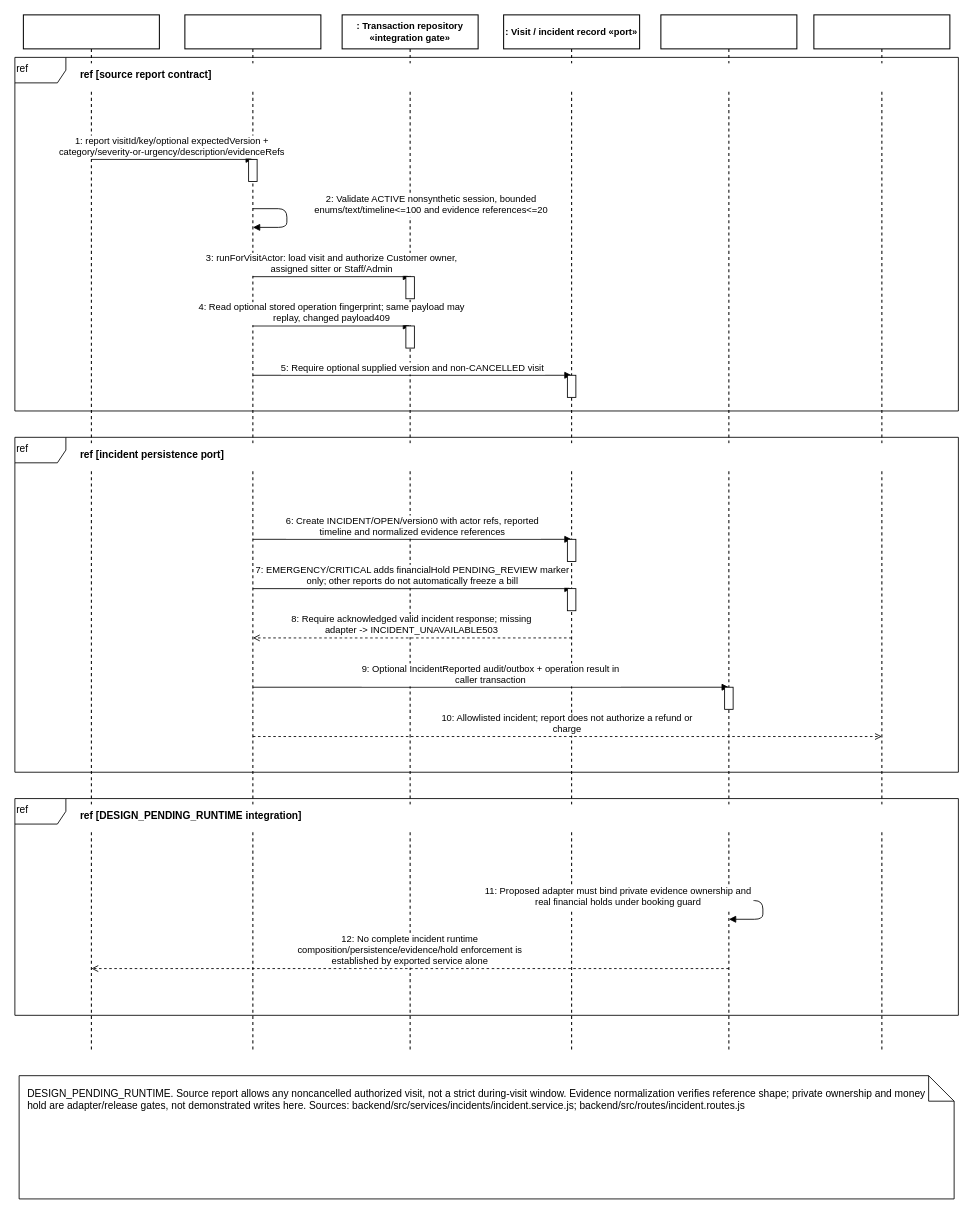
Image size: 973x1215. Some labels were removed from this diagram. The box of each missing label's shape, as (x1, y1, x2, y2) in pixels:
: Audit / evidence / finance «design»: (660, 14, 797, 1050)
: IncidentService «port boundary»: (184, 14, 321, 1050)
: Operational follow-up: (813, 14, 950, 1050)
Customer / assigned sitter / Staff: (22, 14, 159, 1050)
